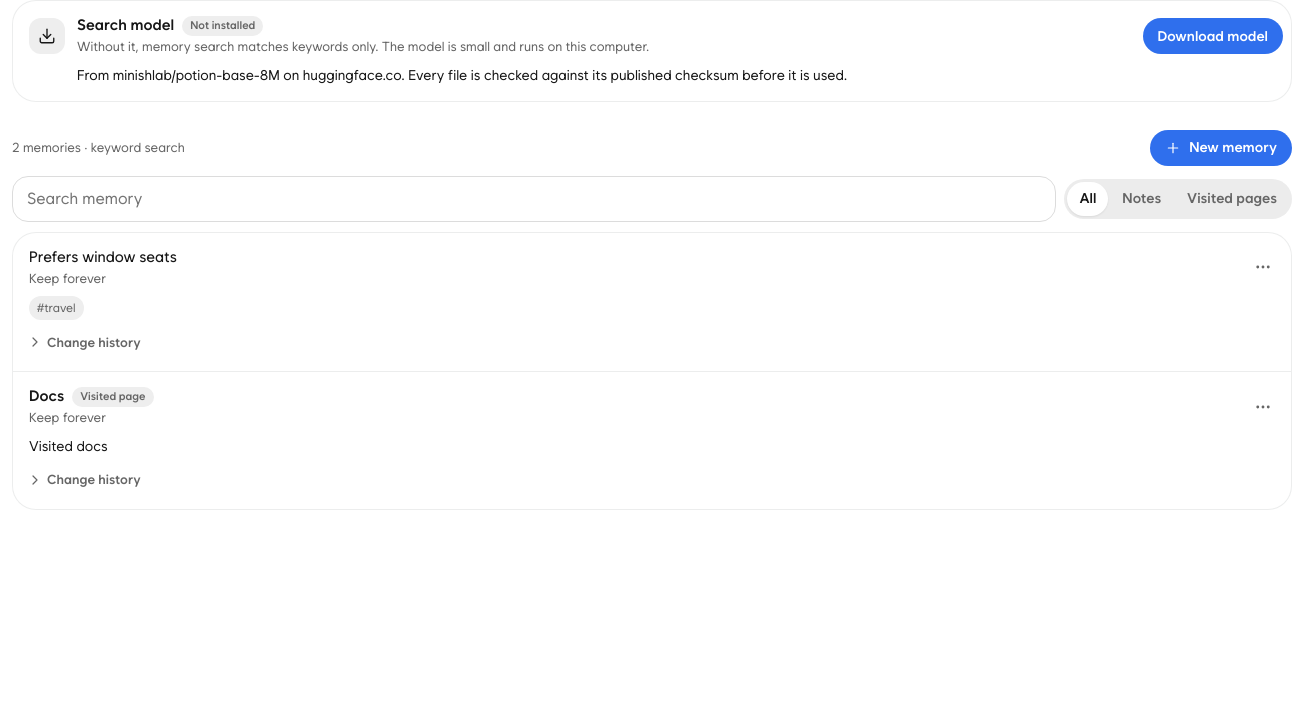
MemoryPage › shows status, searches with kind filter, and shows history
Check: the text named "Memory status" reads "2 memories · keyword search", box top-left (12, 140), bottom-right (185, 155)
Check: the element "Search model" shows "Not installed", box top-left (190, 19), bottom-right (255, 32)
Click the tab "Notes": click(1142, 198) top-left (1110, 182), bottom-right (1173, 216)
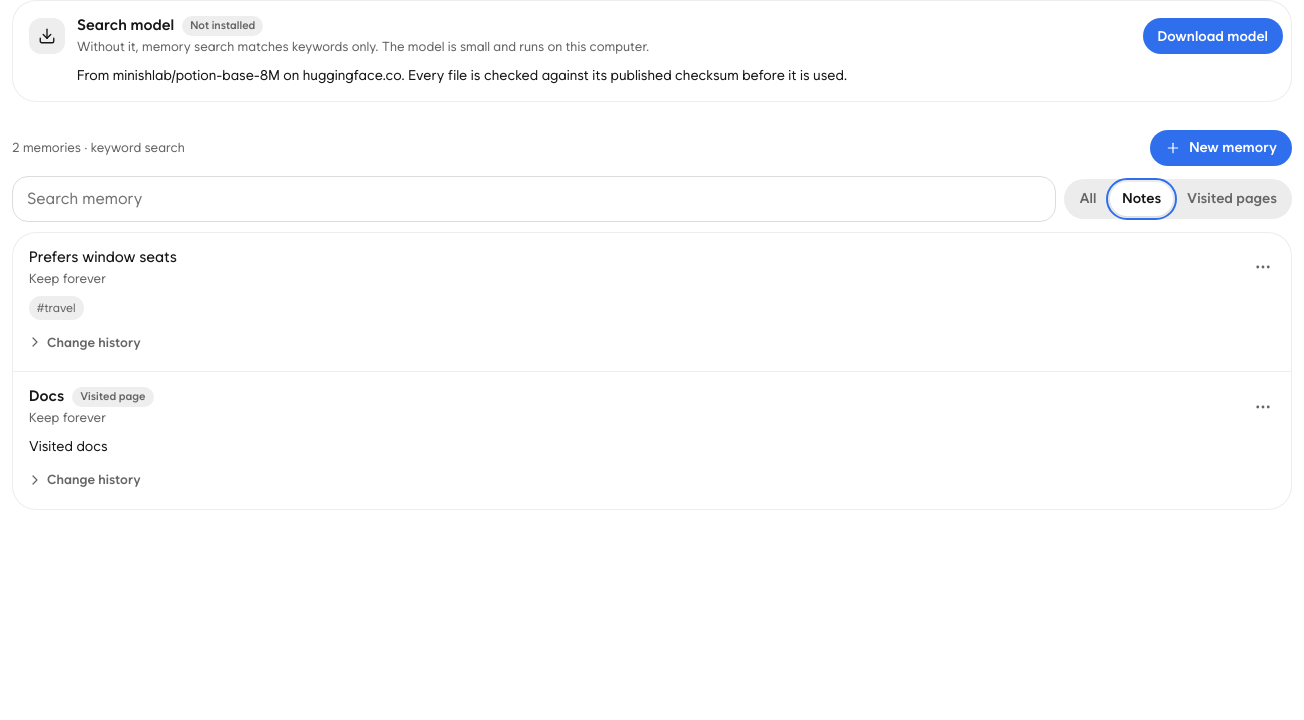
In the search field with placeholder "Search memory": (534, 198) top-left (12, 176), bottom-right (1056, 222), type "window"
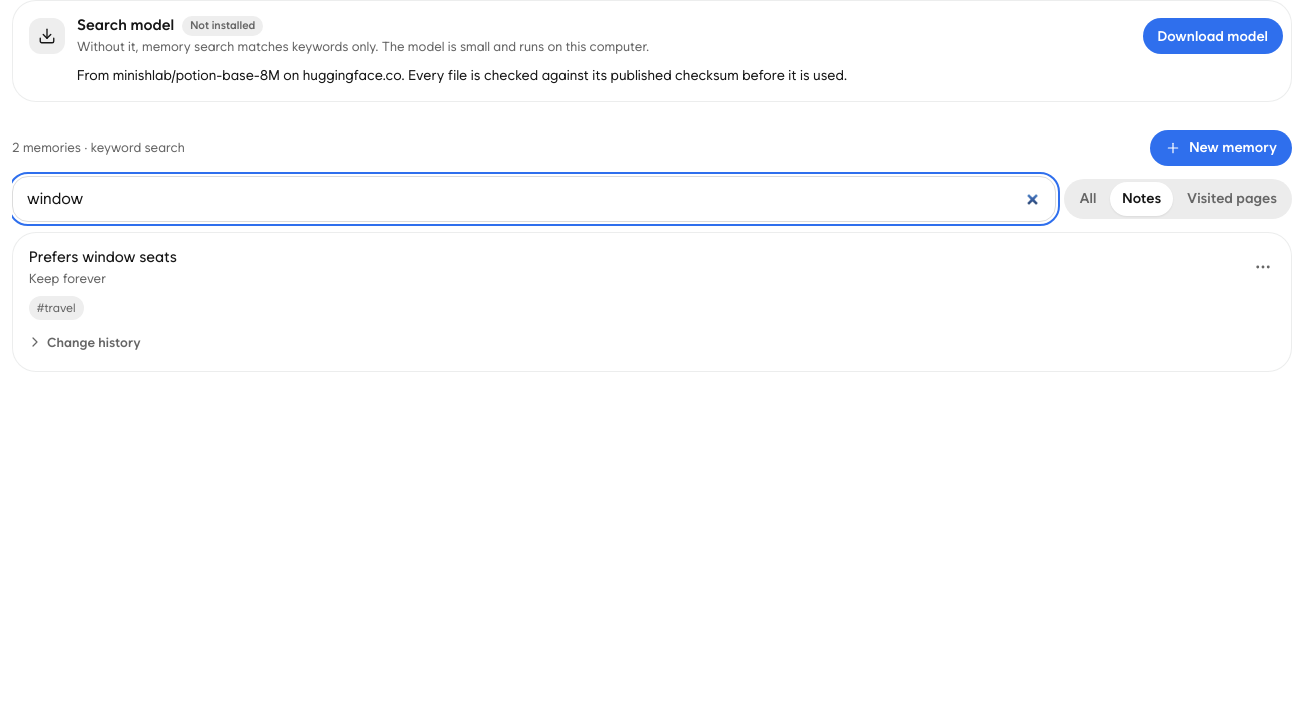
Check: the number of list items is 1, box top-left (13, 232), bottom-right (1291, 371)
Click the button "Change history": click(86, 342) top-left (23, 326), bottom-right (149, 358)
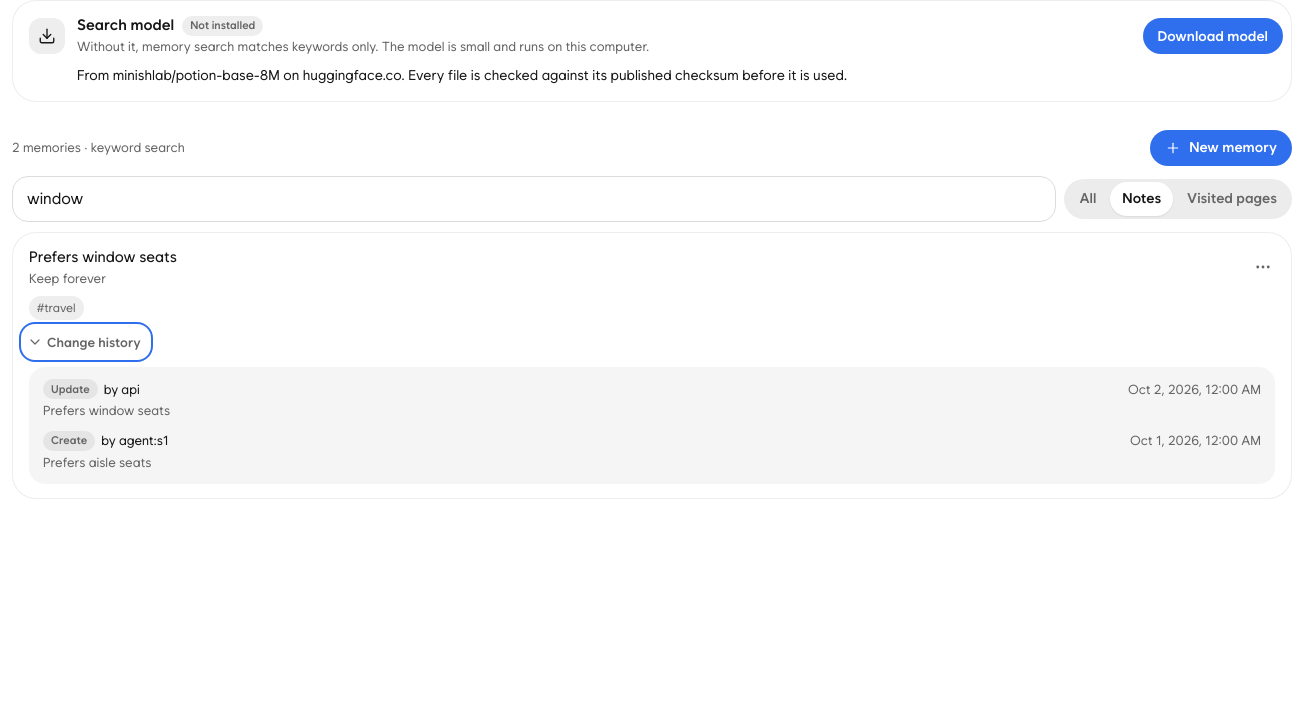
Check: the text "Prefers aisle seats" is shown, box top-left (43, 455), bottom-right (151, 470)
Check: the text "create by agent:s1" is shown, box top-left (43, 431), bottom-right (169, 451)
